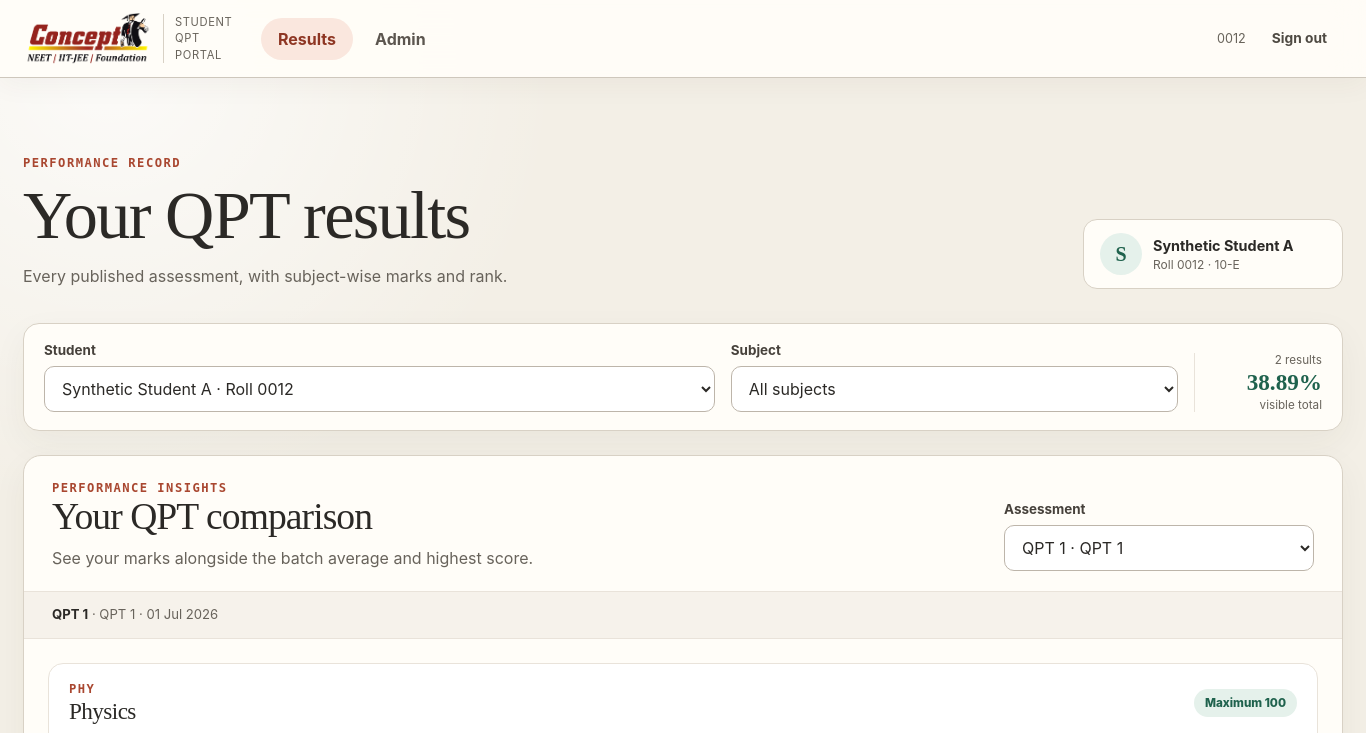
Test: student portal › keeps Results and Admin available when an administrator also has a linked student
Expected: the heading "Your QPT results" is shown, left=23, top=182, right=507, bottom=249
Expected: the button "Results" is shown, left=261, top=18, right=353, bottom=60
Click the button "Admin".
click(400, 38)  # box left=358, top=18, right=443, bottom=60
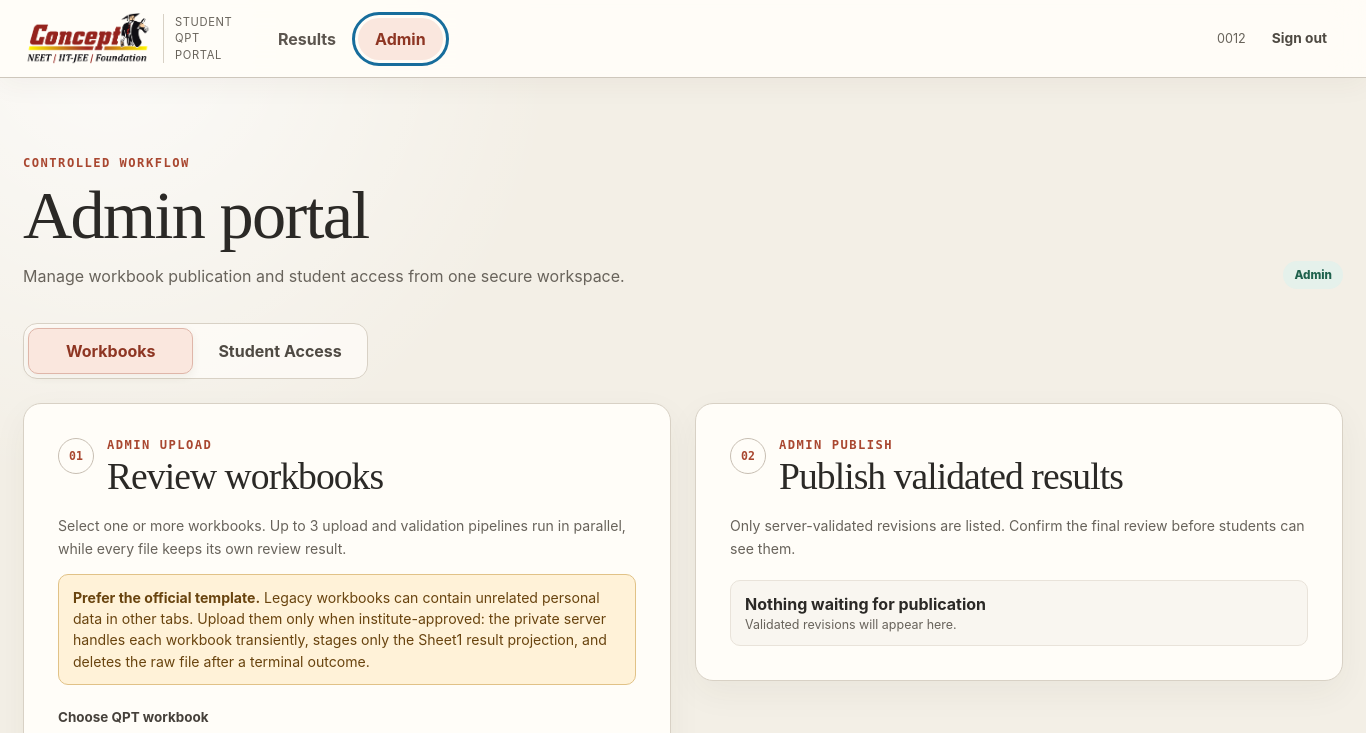
Expected: the button "Results" is shown, left=261, top=18, right=353, bottom=60
Expected: the heading "Admin portal" is shown, left=23, top=177, right=369, bottom=253
